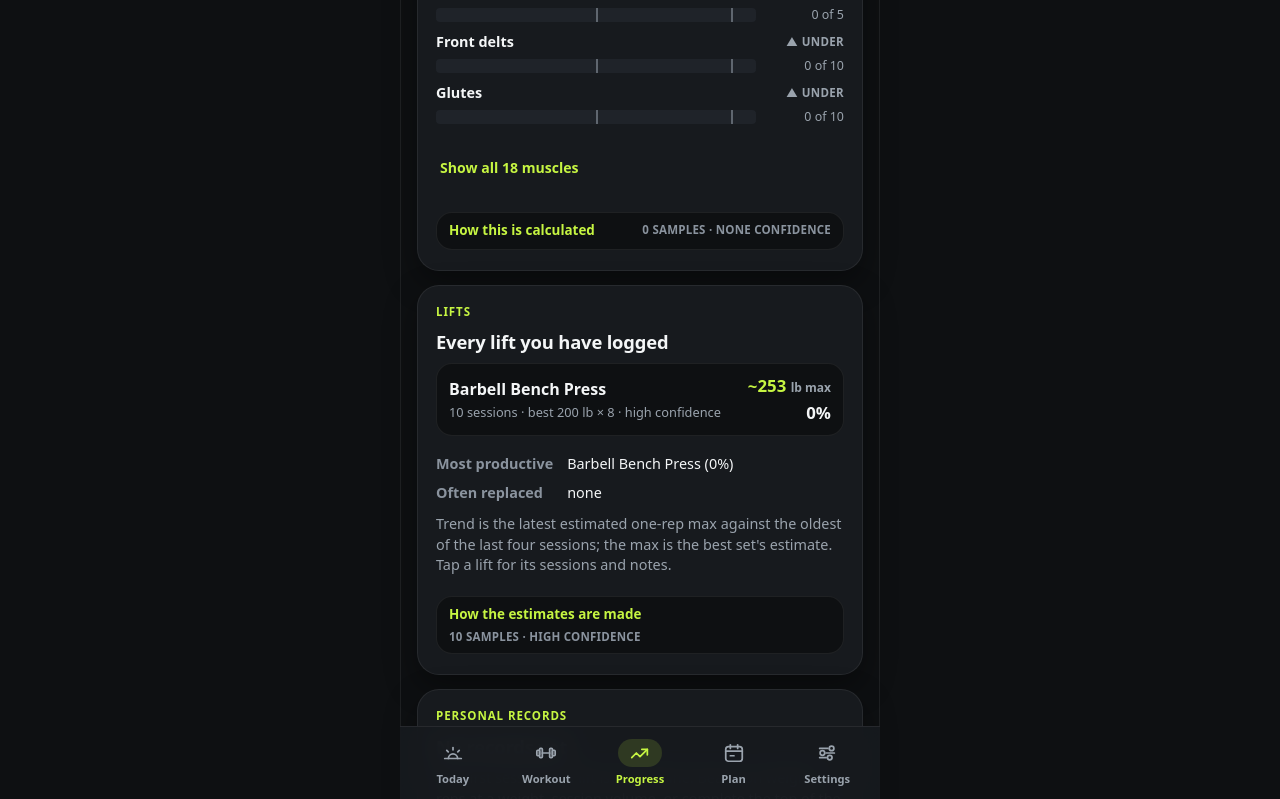
Scenario: Progress, every lift once › lists a lift’s newest eight sessions and every other one a tap away, its best read from all (the third review)
(page scrolled)
Click the button with test id "exercise-progress-row": (640, 400) [436,363,844,436]
(page scrolled)
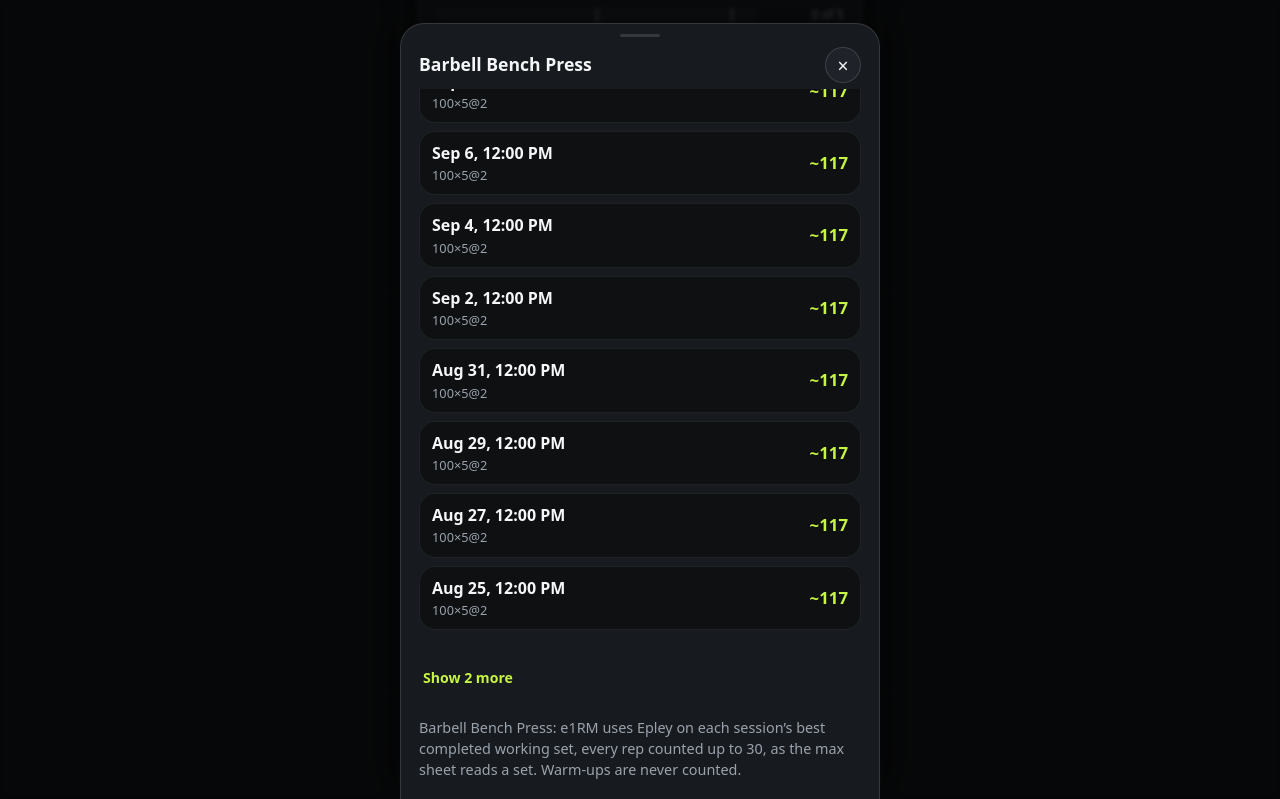
Now the text "~117" is shown 8 times
Now the button with test id "lift-sessions-more" reads "Show 2 more"
Click the button with test id "lift-sessions-more": (468, 678) [419,654,517,702]
(page scrolled)
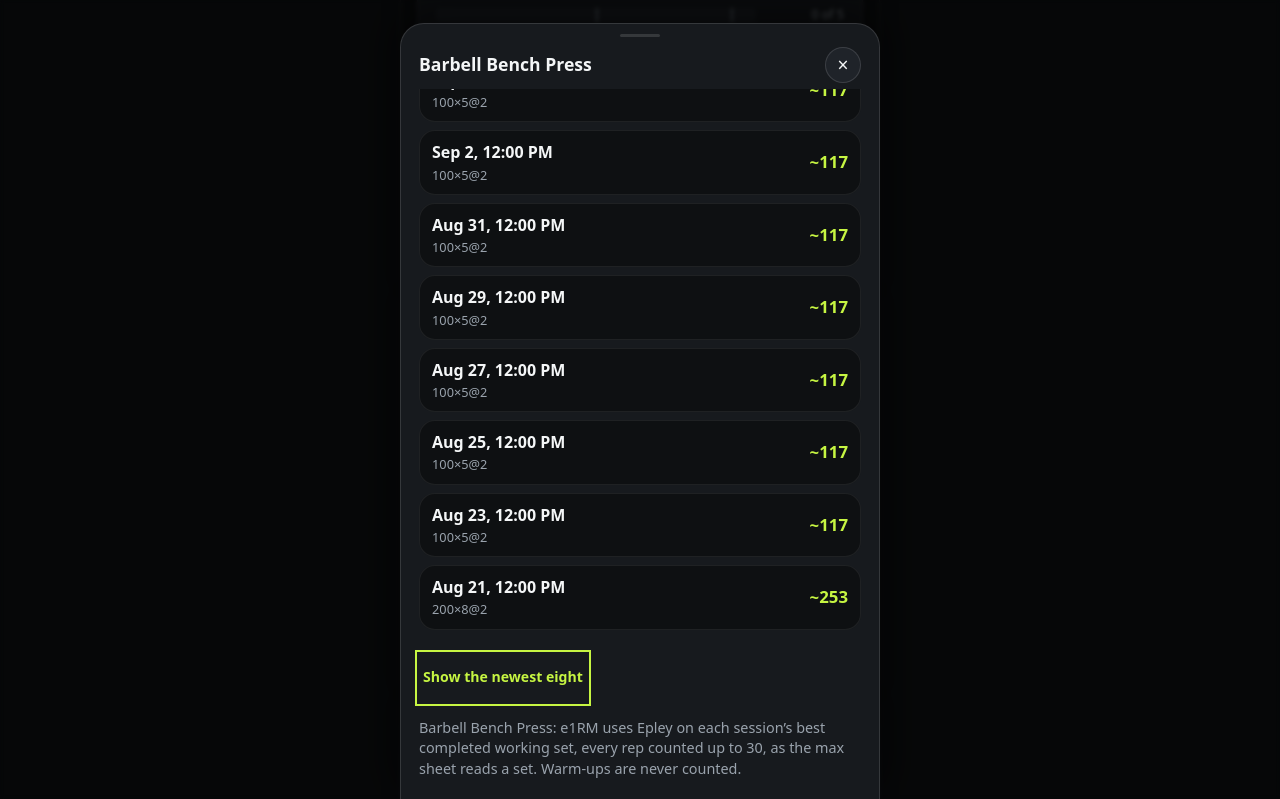
Now the text "~117" is shown 9 times
Now the text "~253" is shown, box [810,585,848,610]
Now the button with test id "lift-sessions-more" reads "Show the newest eight", box [419,654,587,702]
